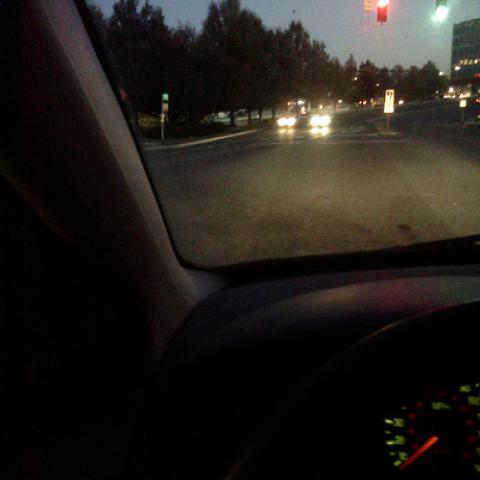car: (0, 1, 479, 475), (307, 110, 332, 126)
